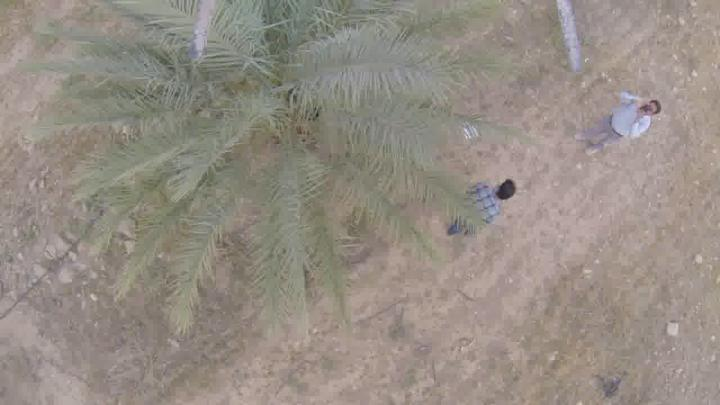Date-Palm-Crown: (144, 0, 402, 250)
